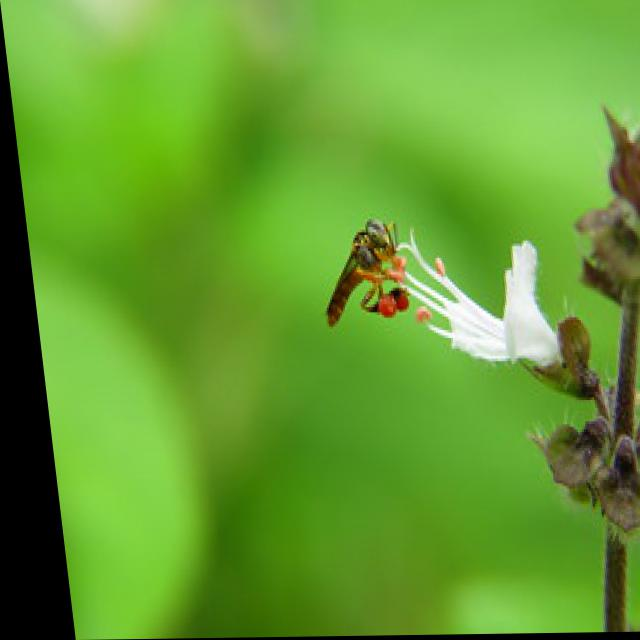Abeille: (296, 197, 416, 334)
